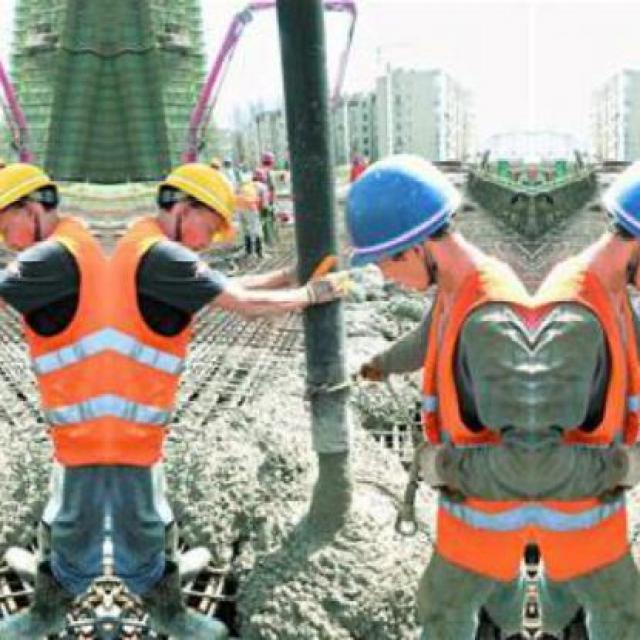Reflective-Jacket: (412, 237, 536, 574), (527, 254, 640, 589), (4, 217, 112, 475), (92, 220, 198, 477)
Safety-Helmet: (319, 146, 480, 272), (143, 154, 256, 238), (592, 143, 640, 260), (0, 153, 72, 226)
